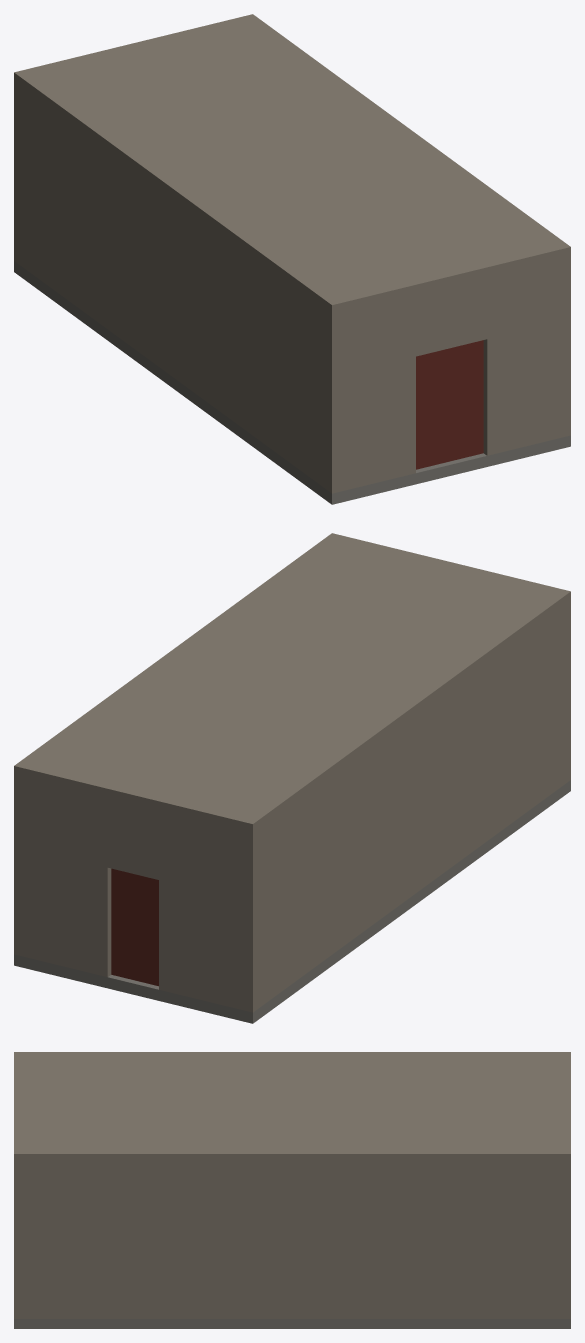
The picture shows the model from 3 angles, top to bottom: view 1: azimuth 30°, elevation 25°; view 2: azimuth 150°, elevation 25°; view 3: azimuth 270°, elevation 25°; orthographic projection. The views are drawn at different scales.
Visible parts, largest first — view 1: CEILING_finite_slab, WALL_side_-1, WALL_end_-1_jamb_1, WALL_end_-1_jamb_-1, DOOR_leaf_-1, FLOOR_finite_slab, WALL_end_-1_lintel, WALL_side_1; view 2: CEILING_finite_slab, WALL_side_-1, WALL_end_1_jamb_1, WALL_end_1_jamb_-1, FLOOR_finite_slab, DOOR_leaf_1, WALL_end_1_lintel, WALL_side_1; view 3: WALL_side_1, CEILING_finite_slab, FLOOR_finite_slab.
Part boxes in pixels (bbox=[...]): CEILING_finite_slab: bbox=[14, 14, 570, 316]; WALL_side_-1: bbox=[14, 84, 339, 493]; WALL_end_-1_jamb_1: bbox=[483, 260, 562, 455]; WALL_end_-1_jamb_-1: bbox=[340, 296, 415, 491]; DOOR_leaf_-1: bbox=[416, 340, 483, 469]; FLOOR_finite_slab: bbox=[14, 261, 570, 504]; WALL_end_-1_lintel: bbox=[416, 278, 487, 356]; WALL_side_1: bbox=[563, 258, 570, 437]; CEILING_finite_slab: bbox=[14, 533, 570, 835]; WALL_side_-1: bbox=[245, 603, 570, 1012]; WALL_end_1_jamb_1: bbox=[22, 779, 111, 977]; WALL_end_1_jamb_-1: bbox=[159, 812, 244, 1010]; FLOOR_finite_slab: bbox=[14, 780, 570, 1023]; DOOR_leaf_1: bbox=[111, 868, 158, 986]; WALL_end_1_lintel: bbox=[107, 800, 158, 879]; WALL_side_1: bbox=[14, 777, 21, 956]; WALL_side_1: bbox=[14, 1164, 570, 1318]; CEILING_finite_slab: bbox=[14, 1052, 570, 1163]; FLOOR_finite_slab: bbox=[14, 1319, 570, 1328].
Bounding box in the file's own units: 5.36 × 4.28 × 12.36.
